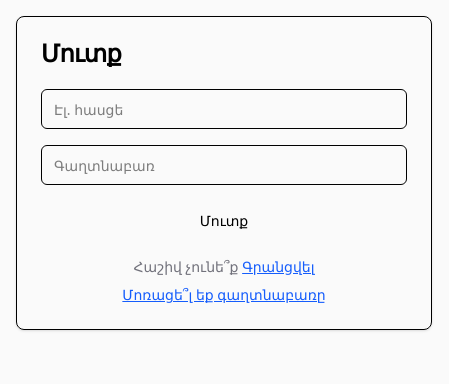
Test: LoginPage › shows Armenian error message on 400/401 response
This screenshot has width=449, height=384.
Type "wrong@example.com" into the field with placeholder "Էլ. հասցե". click: (224, 109)
box: [41,89,407,129]
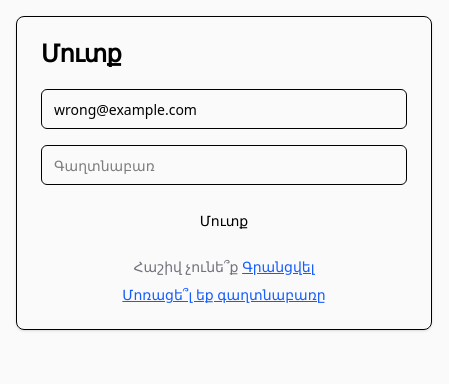
Type "wrongpassword" into the password field with placeholder "Գաղտնաբառ". click: (224, 165)
box: [41,145,407,185]
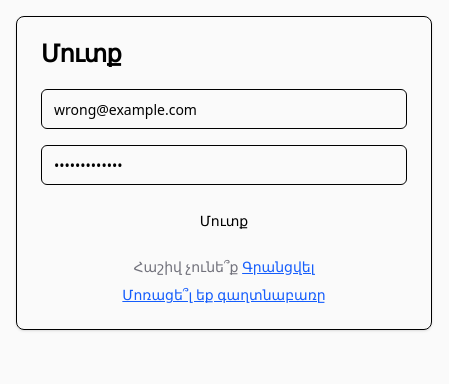
Click the button "Մուտք". click: (224, 221)
box: [41,201,407,241]
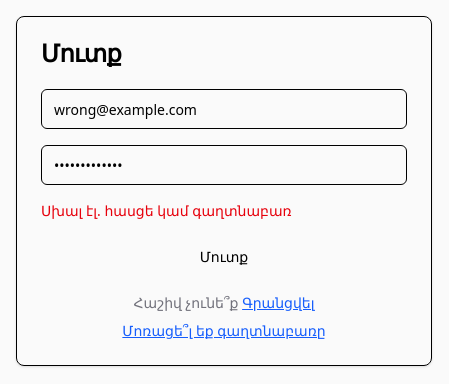
Now the text "Սխալ էլ. հասցե կամ գաղտնաբառ" is shown, box [41,201,292,220]
